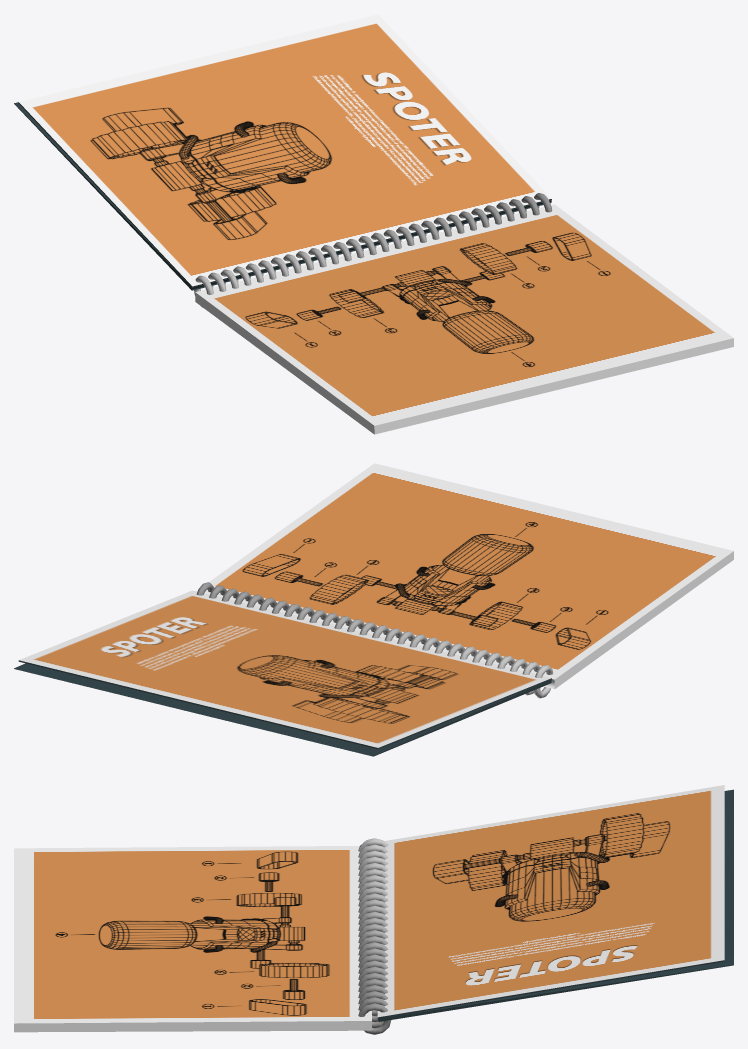
File: notebookunity.fbx
3 views of the same model, one above another, from view 1: azimuth 30°, elevation 25°; view 2: azimuth 150°, elevation 25°; view 3: azimuth 270°, elevation 25° (orthographic).
Parts seen in each view (by area): view 1: page1, page2, book, cover; view 2: page2, page1, book, cover; view 3: page2, page1, book, cover.
Boxes of the visible parts, bbox=[...] form: page1: bbox=[19, 14, 551, 286]; page2: bbox=[195, 204, 733, 425]; book: bbox=[194, 193, 733, 434]; cover: bbox=[14, 102, 551, 290]; page2: bbox=[196, 463, 733, 679]; page1: bbox=[19, 590, 551, 747]; book: bbox=[196, 551, 733, 698]; cover: bbox=[14, 660, 551, 756]; page2: bbox=[14, 846, 371, 1023]; page1: bbox=[377, 785, 724, 1017]; book: bbox=[14, 838, 391, 1034]; cover: bbox=[377, 789, 733, 1021].
Size of the model in its own units: 243 by 51.7 by 422.
